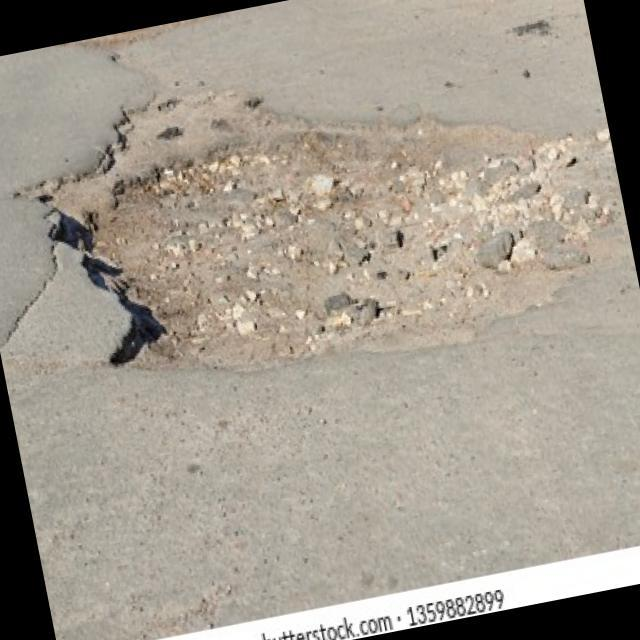Pothole: (0, 9, 640, 422)
